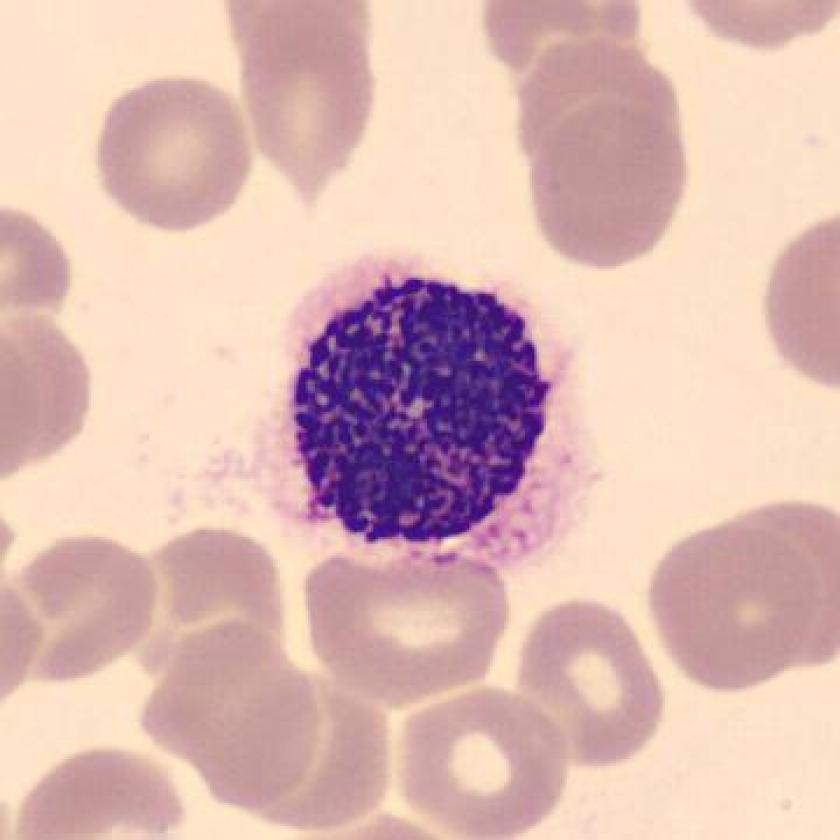basophil: (274, 267, 559, 545)
